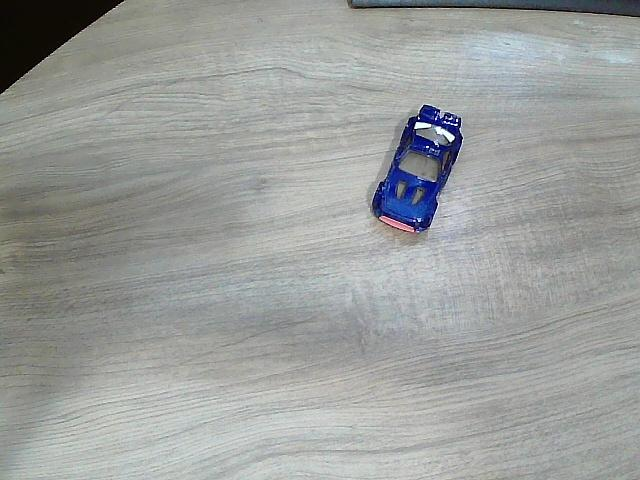Carro: (370, 107, 463, 234)
